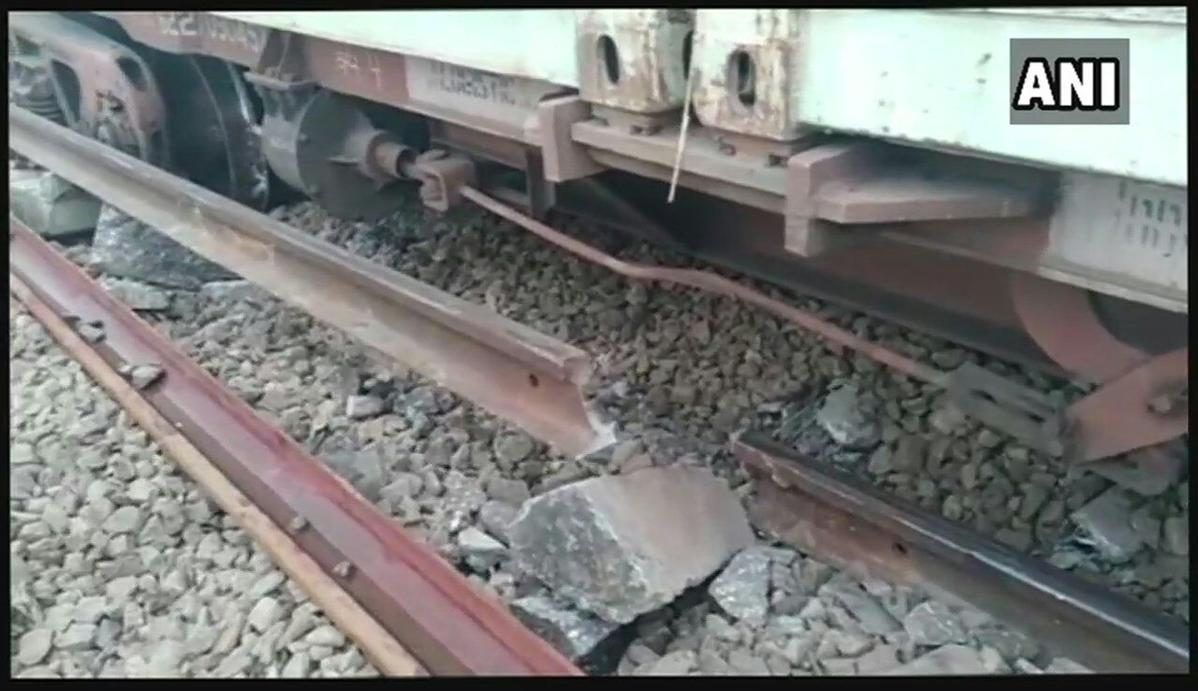crack: (493, 273, 840, 616)
